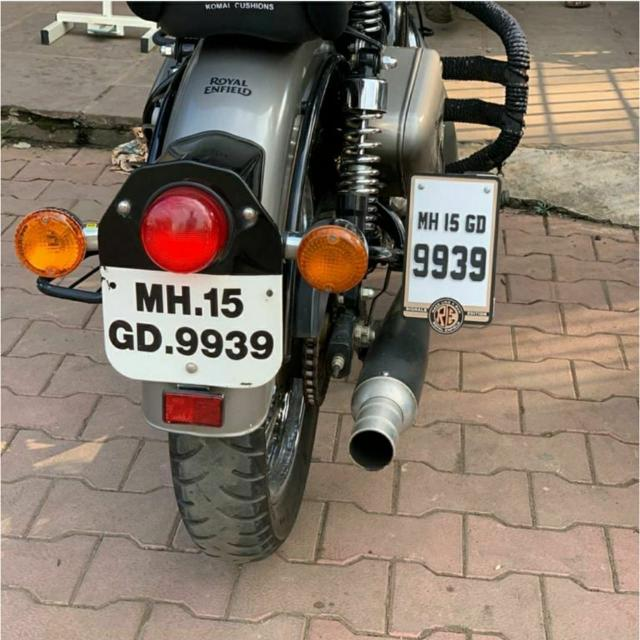number plate: (98, 263, 284, 389), (401, 172, 501, 326)
